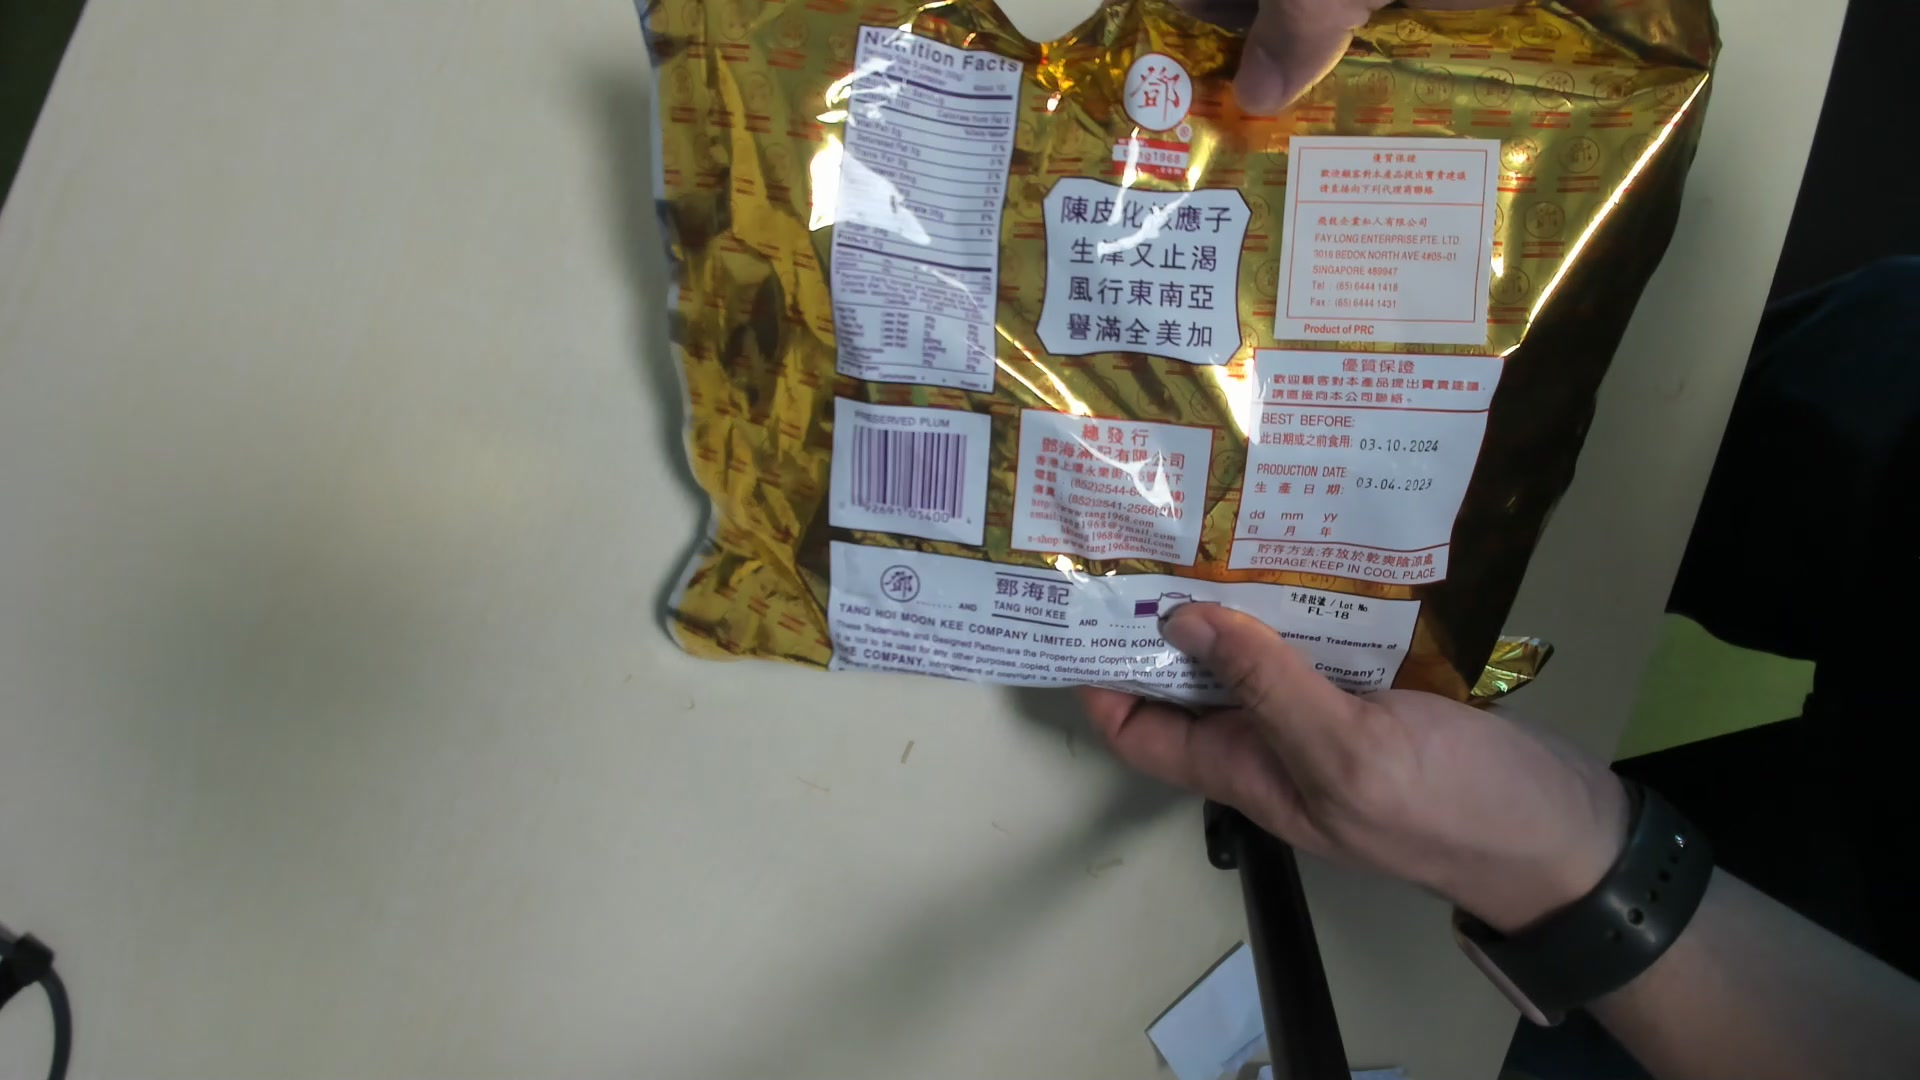SweetsChocolatesOthers_400-499g_NonHalal_Nonhealthy: (628, 1, 1726, 717)
